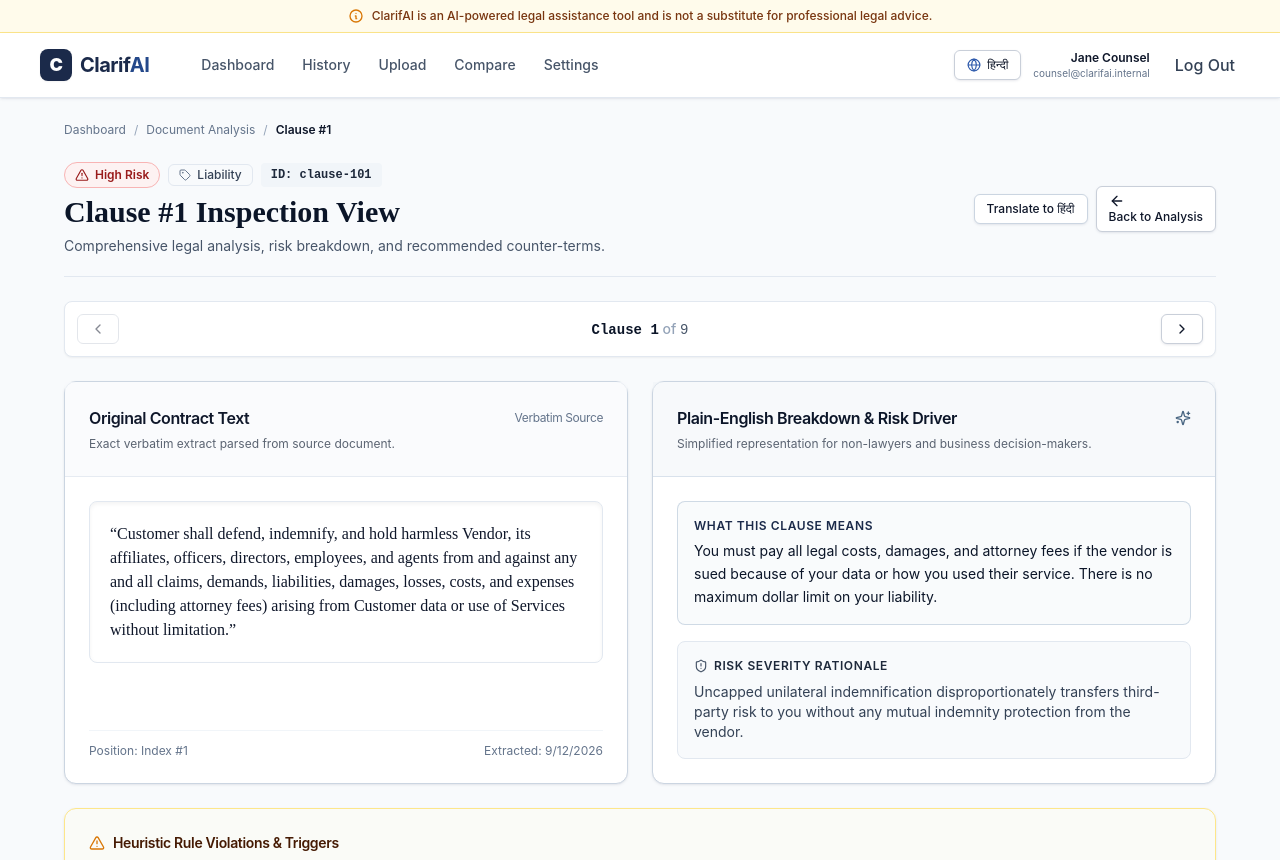
ClauseDetailPage (PRD Ch. 12, 22.8 & Section 8.3) › translates clause analysis to Hindi when language toggle is clicked
Check: the heading "Clause #1 Inspection View" is shown, box 64,195 -> 400,228
Click the button "Translate to हिंदी". click: (1031, 209)
box: 974,194 -> 1088,224
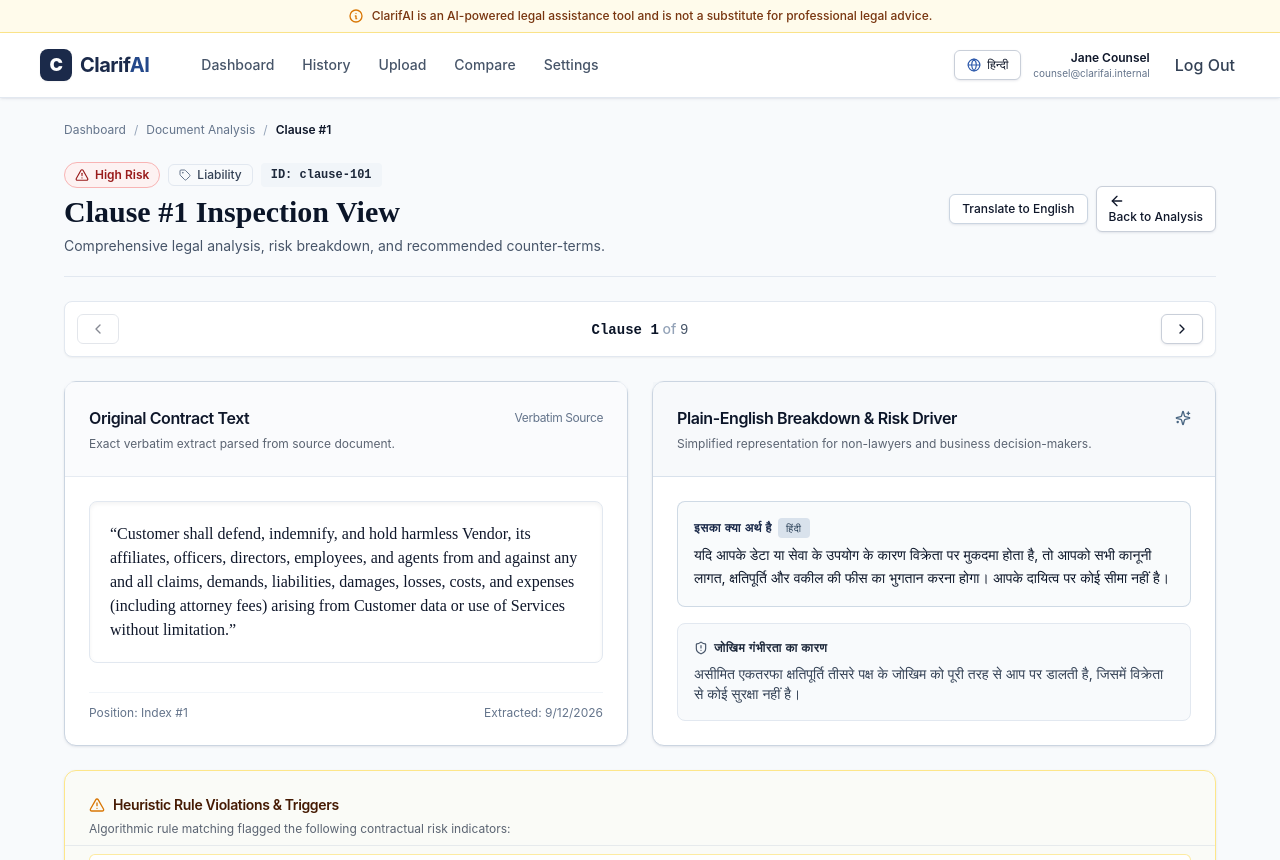
Check: the text "यदि आपके डेटा या सेवा के उपयोग के कारण विक्रेता पर मुकदमा होता है" is shown, box 694,546 -> 1169,586
